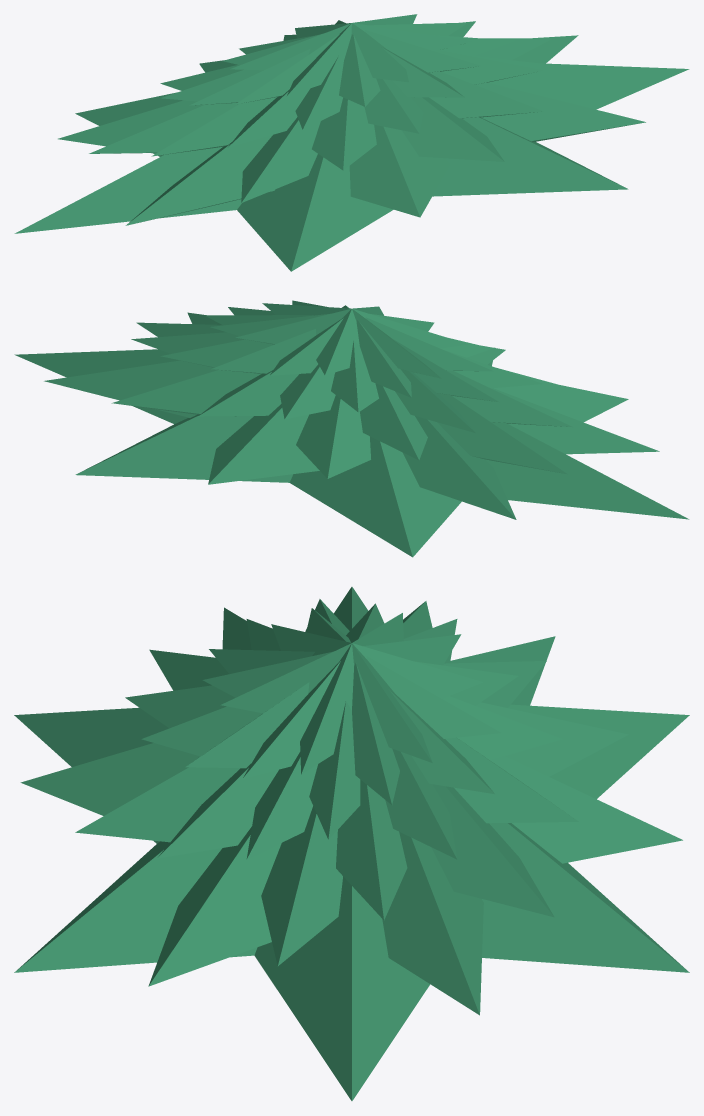
The model's file is Fantabulous Turing-Jarv.glb.
The picture shows the model from 3 angles, top to bottom: view 1: azimuth 30°, elevation 25°; view 2: azimuth 150°, elevation 25°; view 3: azimuth 270°, elevation 25°; orthographic projection. The views are drawn at different scales.
Parts seen in each view (by area): view 1: Mesh_Mesh_head_geo.001_lambert2SG.001; view 2: Mesh_Mesh_head_geo.001_lambert2SG.001; view 3: Mesh_Mesh_head_geo.001_lambert2SG.001.
Boxes of the visible parts, x1=… form: Mesh_Mesh_head_geo.001_lambert2SG.001: x1=14, y1=14, x2=689, y2=271; Mesh_Mesh_head_geo.001_lambert2SG.001: x1=14, y1=300, x2=689, y2=557; Mesh_Mesh_head_geo.001_lambert2SG.001: x1=14, y1=587, x2=689, y2=1100.
Size of the model in its own units: 0.166 by 0.04 by 0.092.
